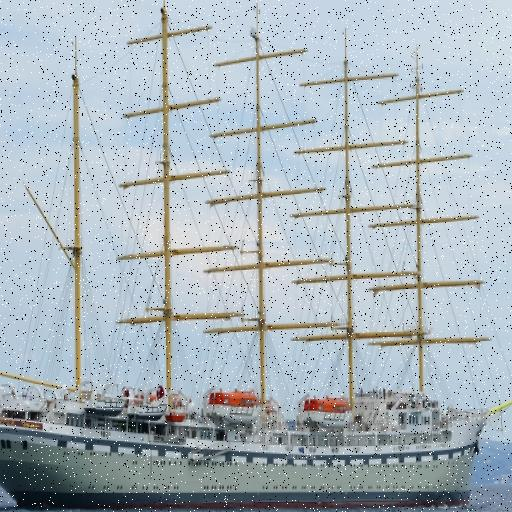cruises: (1, 347, 512, 512)
